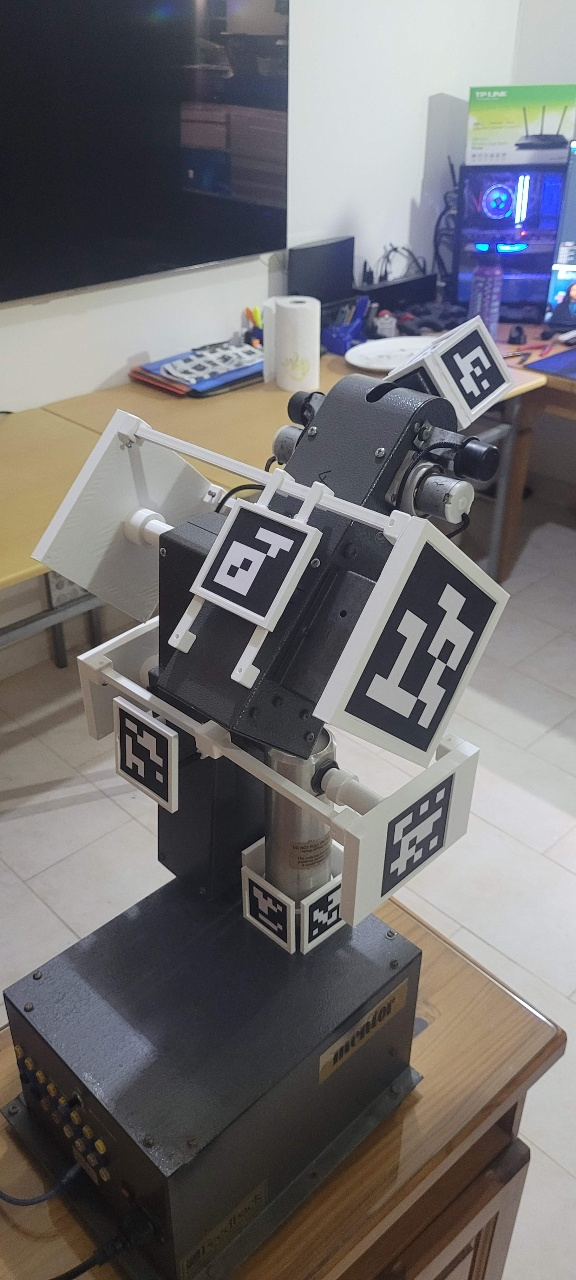Robot: (91, 239, 478, 1035)
